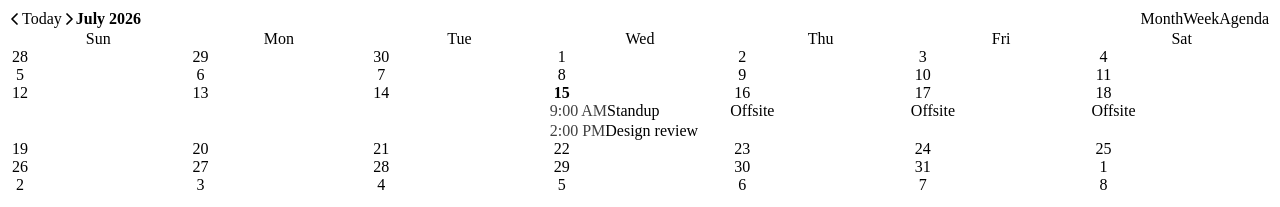
Scenario: CalendarView › pages forward a month
This screenshot has width=1280, height=207.
Click the button named "Next period" at (69, 19), box [62,12,76,26]
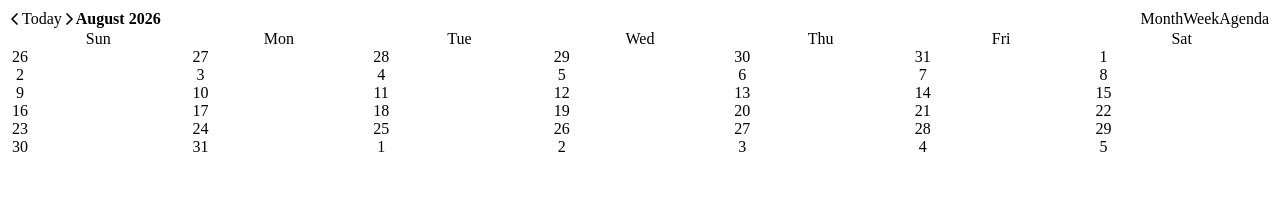
Expected: the heading shows "August", [76,10,161,27]
